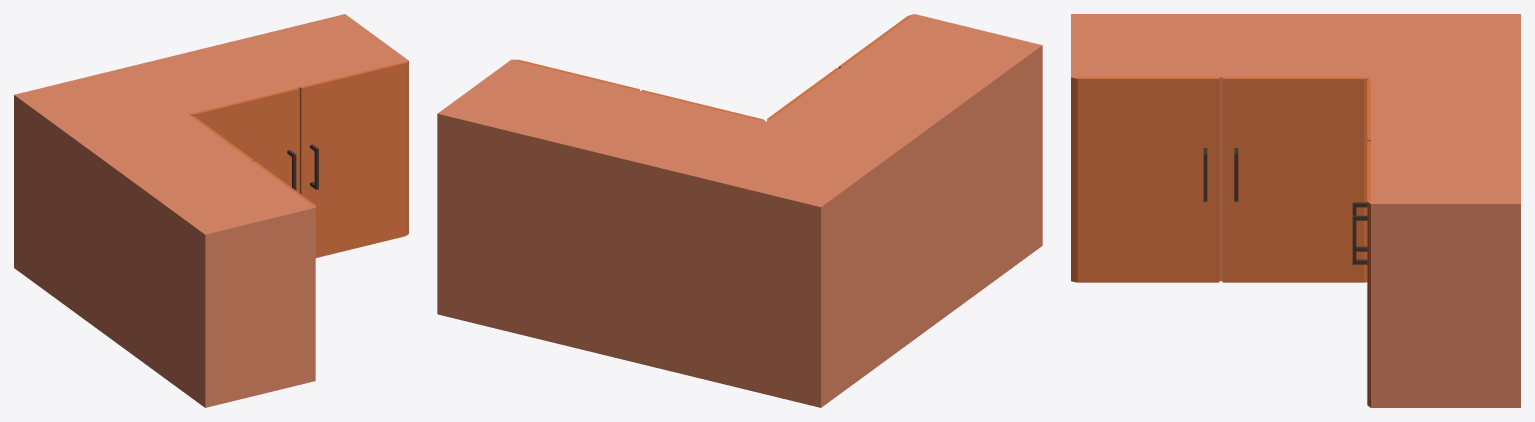
Rendered from meublesCuisineBas1.fbx.
3 views of the same model, side by side, from view 1: azimuth 30°, elevation 25°; view 2: azimuth 150°, elevation 25°; view 3: azimuth 270°, elevation 25° (orthographic). The views are drawn at different scales.
Visible parts, largest first — view 1: placard3; view 2: placard3; view 3: placard3.
Boxes of the visible parts, x1,y1,x2,y2 form: placard3: [14, 14, 408, 407]; placard3: [437, 14, 1042, 407]; placard3: [1071, 14, 1520, 407].
Size of the model in its own units: 600 by 300 by 600.
